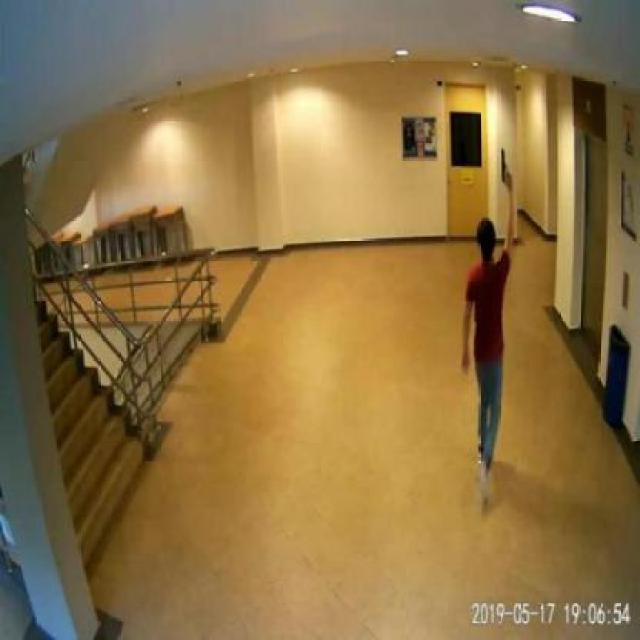gun: (499, 144, 513, 184)
